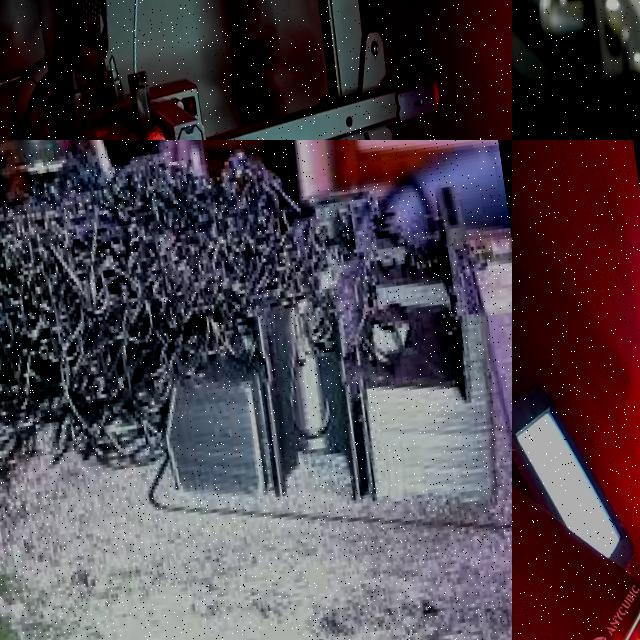spaghetti: (0, 153, 431, 465)
